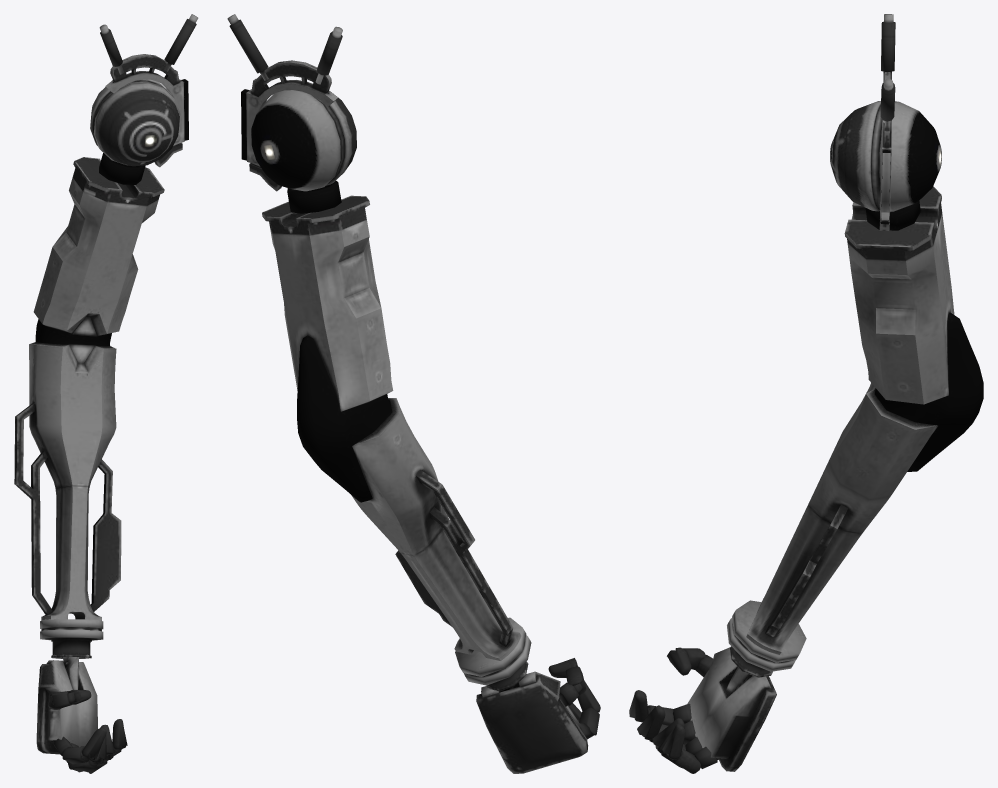
Rendered from armR.gltf.
3 renders of one model, left to right at view 1: azimuth 30°, elevation 25°; view 2: azimuth 150°, elevation 25°; view 3: azimuth 270°, elevation 25°, orthographic. The views are drawn at different scales.
Parts seen in each view (by area): view 1: MP_FRAME_ARM-R; view 2: MP_FRAME_ARM-R; view 3: MP_FRAME_ARM-R.
Boxes of the visible parts, x1=… form: MP_FRAME_ARM-R: x1=14, y1=14, x2=198, y2=773; MP_FRAME_ARM-R: x1=227, y1=14, x2=600, y2=773; MP_FRAME_ARM-R: x1=629, y1=14, x2=983, y2=773.
Size of the model in its own units: 0.3544 by 0.9629 by 0.3805.
